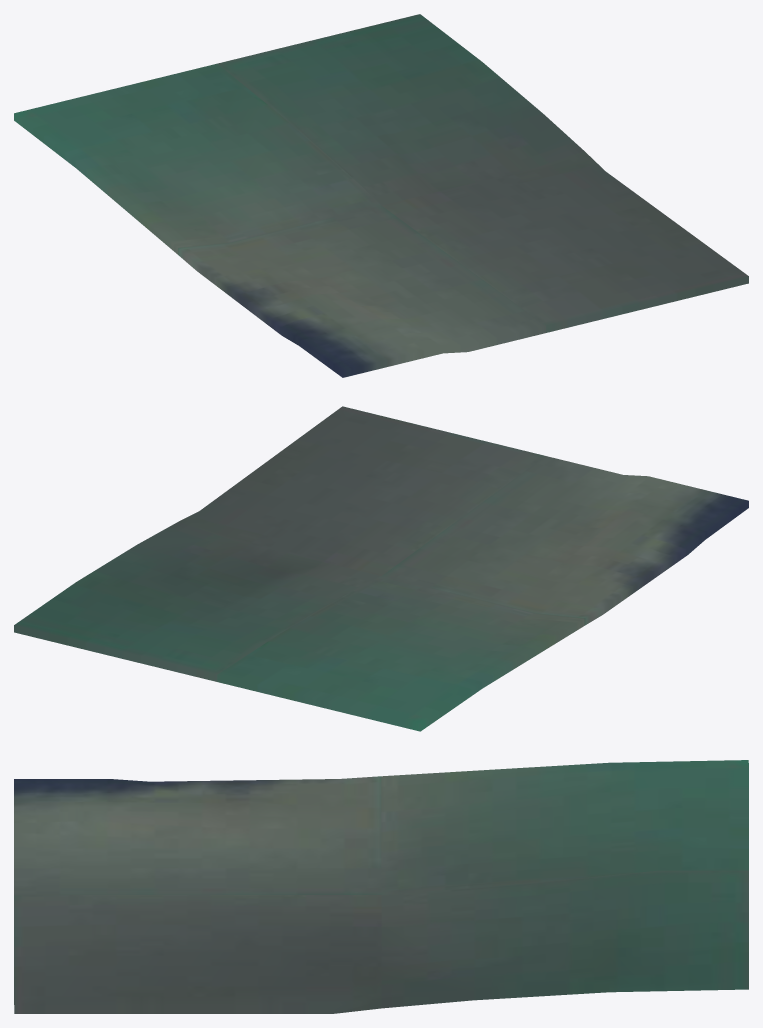
The picture shows the model from 3 angles, top to bottom: view 1: azimuth 30°, elevation 25°; view 2: azimuth 150°, elevation 25°; view 3: azimuth 270°, elevation 25°; orthographic projection. The views are drawn at different scales.
Parts seen in each view (by area): view 1: 30436272704370637700_0; view 2: 30436272704370637700_0; view 3: 30436272704370637700_0.
Part boxes in pixels (x1,y1,x2,y2): 30436272704370637700_0: (14,14,748,377); 30436272704370637700_0: (14,406,748,731); 30436272704370637700_0: (14,760,748,1013).
Size of the model in its own units: 27.32 by 1.87 by 38.26.
1 material, 1 textured.
